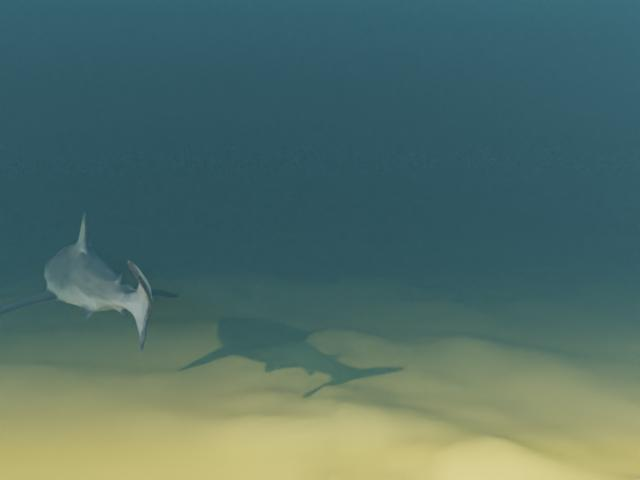Carribean Shark.001: (0, 212, 179, 352)
